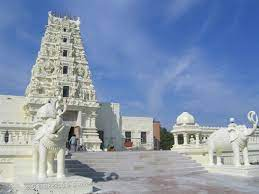Temple: (28, 10, 100, 148)
